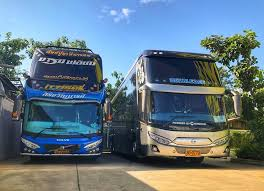bus: (115, 49, 230, 162), (18, 45, 111, 161)
